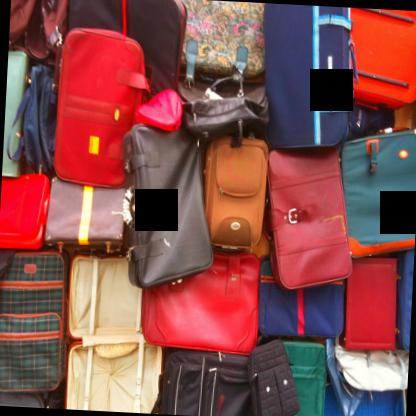backpack: (9, 66, 57, 176)
handbag: (269, 149, 352, 292), (177, 74, 269, 148), (248, 339, 301, 416), (0, 249, 13, 289)
suitcase: (0, 0, 415, 415), (53, 28, 153, 188), (65, 252, 163, 413), (122, 128, 211, 287), (261, 3, 357, 150), (142, 253, 260, 355), (267, 148, 351, 289), (69, 0, 187, 98), (0, 251, 70, 391), (342, 128, 416, 259), (175, 0, 267, 82), (350, 7, 416, 116), (339, 257, 401, 352), (0, 173, 51, 247)
